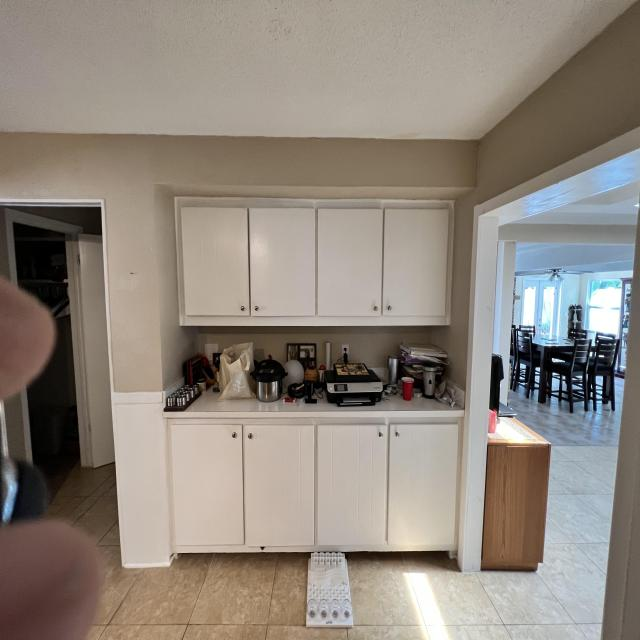Cabinet_Flat: (167, 410, 465, 554), (176, 198, 457, 329)
Countertop_Solid_Surface: (165, 391, 455, 417)
